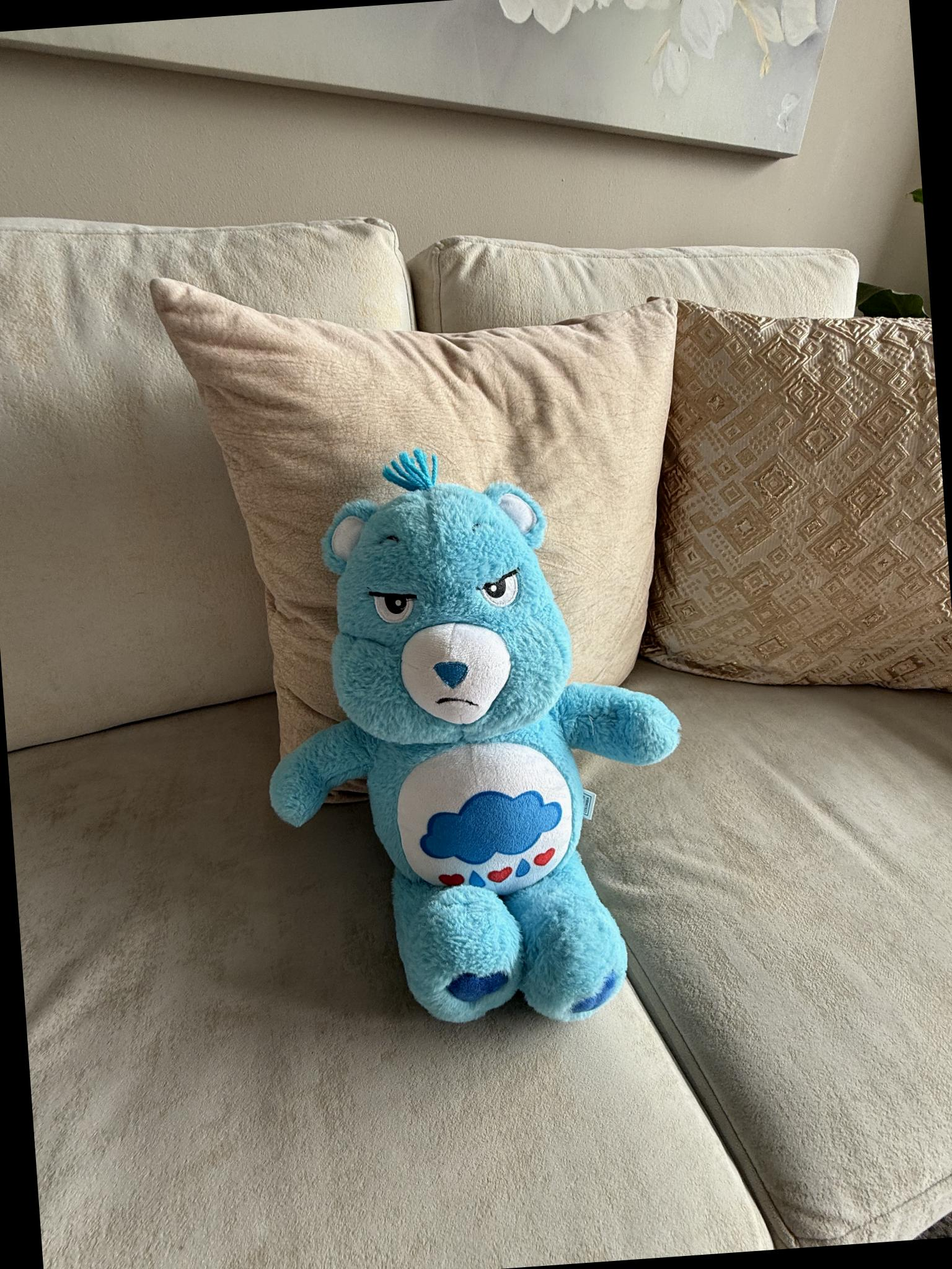peluche_Juan Jose: (315, 463, 683, 1032)
